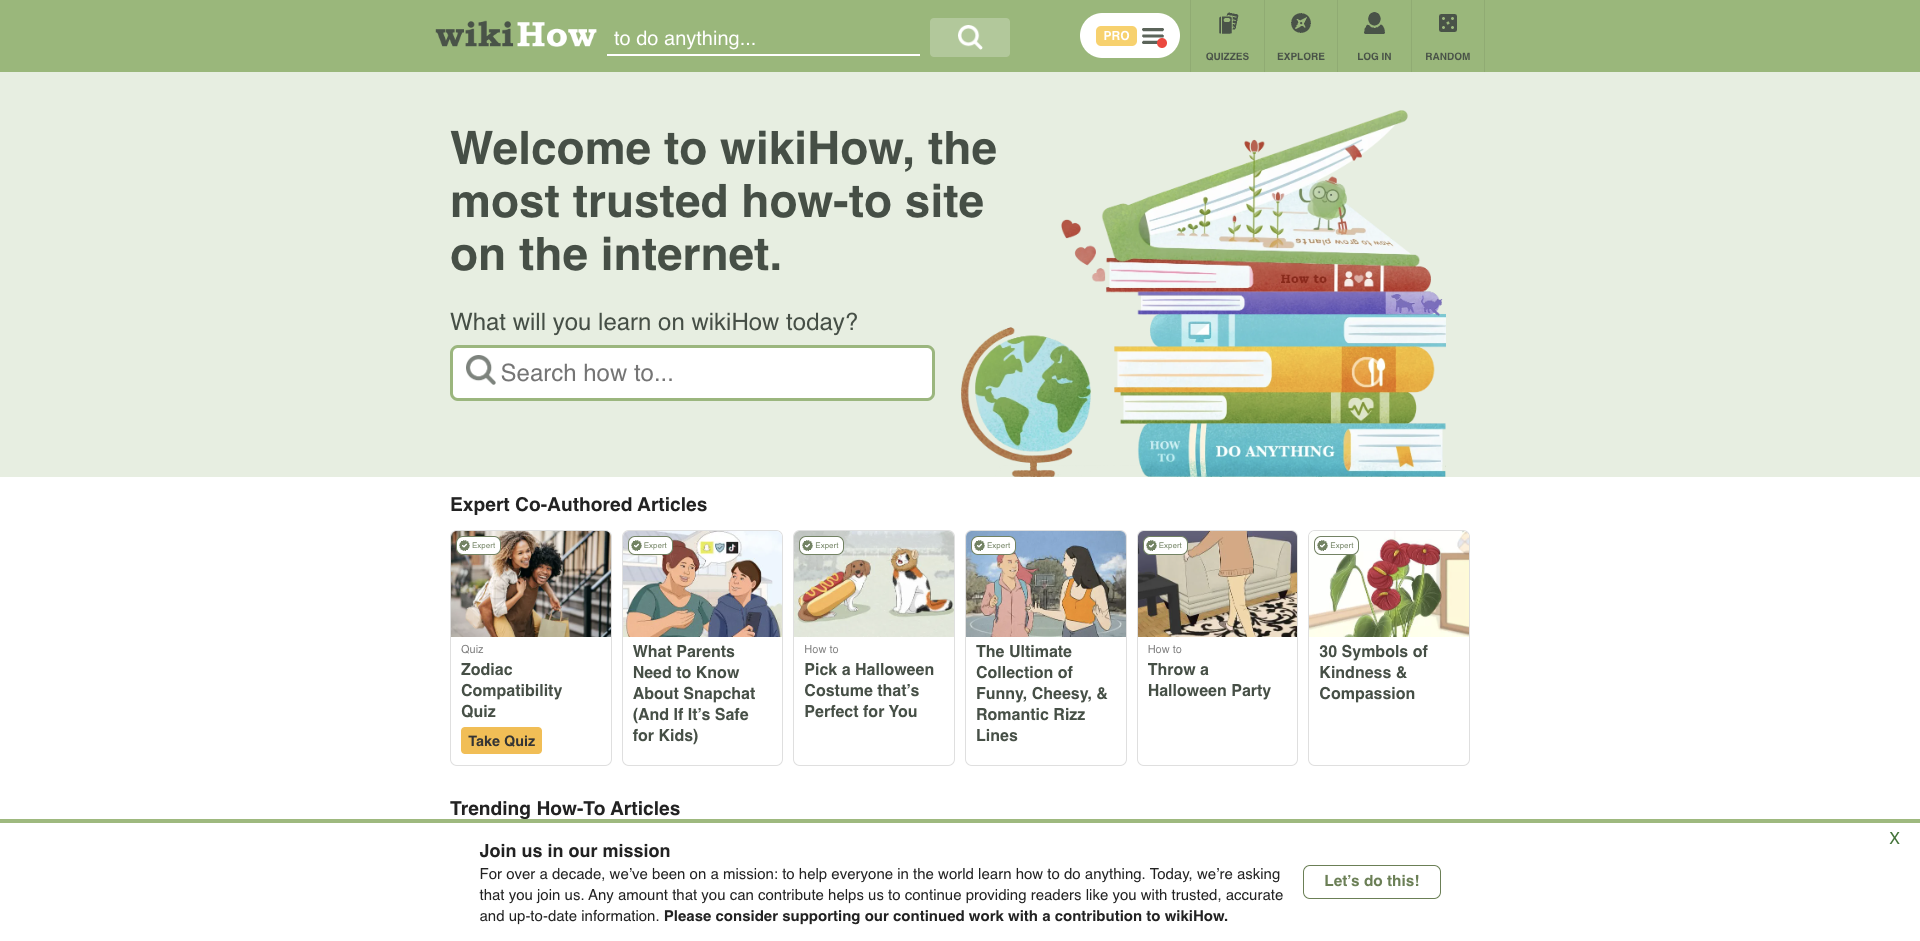button: (435, 0, 1485, 72), (1303, 865, 1440, 898), (931, 17, 1010, 56), (460, 727, 542, 755)
input: (501, 348, 932, 397), (607, 17, 920, 55), (467, 352, 496, 388)
link: (451, 531, 611, 772), (1309, 531, 1469, 772), (623, 531, 782, 772), (795, 531, 954, 772), (966, 531, 1125, 772), (1138, 531, 1297, 772), (451, 836, 611, 941), (1309, 836, 1469, 941), (623, 836, 782, 941), (795, 836, 954, 941), (966, 836, 1125, 941), (1138, 836, 1297, 941), (435, 0, 607, 72), (1191, 0, 1264, 72), (1265, 0, 1337, 72), (1338, 0, 1411, 72), (1412, 0, 1484, 72), (1080, 13, 1180, 58), (1889, 828, 1900, 850), (6, 6, 7, 7)
menu_item: (1190, 0, 1264, 72), (1264, 0, 1337, 72), (1337, 0, 1411, 72), (1411, 0, 1484, 72), (1080, 13, 1180, 58)
